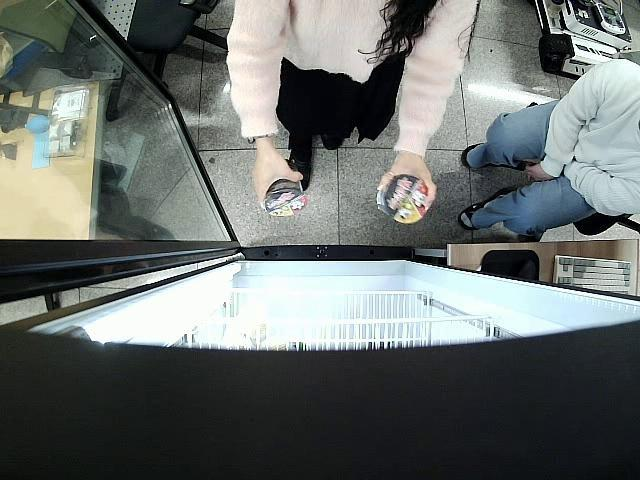08_buldak_S: (379, 174, 430, 223), (266, 159, 306, 216)
